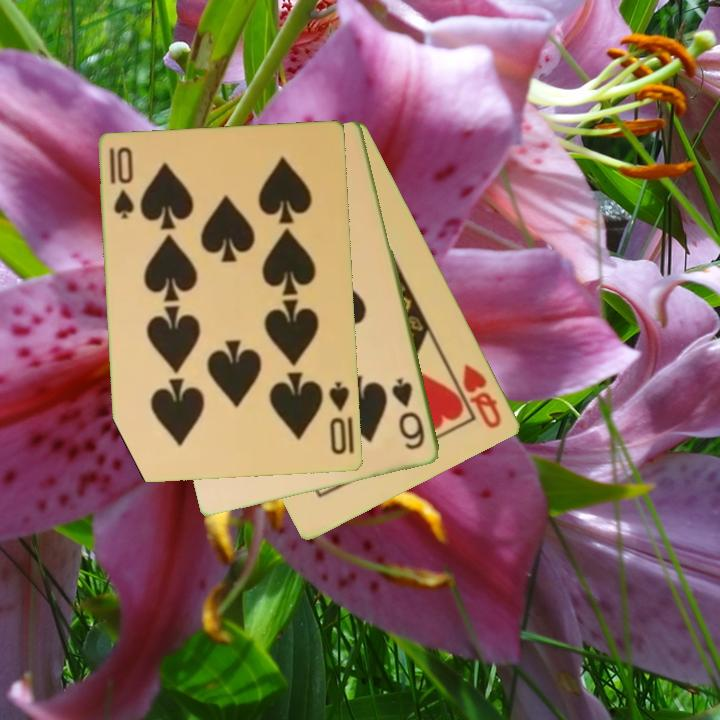10s: (106, 143, 137, 223), (326, 379, 353, 458)
6s: (388, 375, 428, 453)
Qh: (459, 360, 505, 432)
